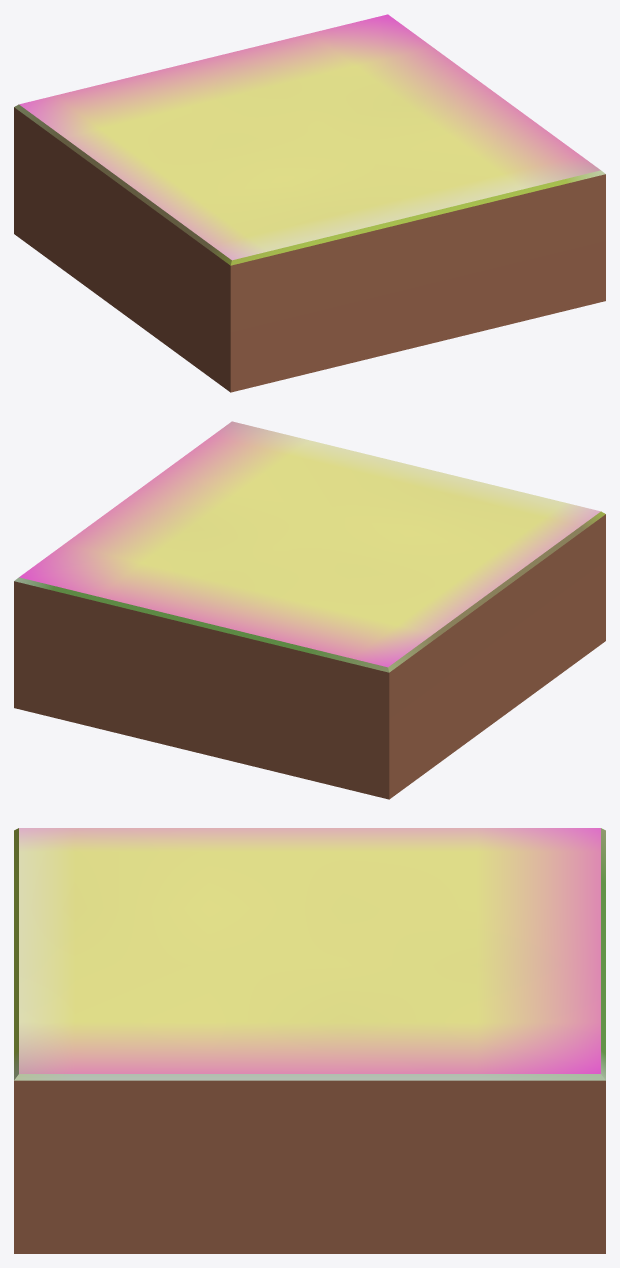
The model's file is Plain.Textured.Grid.Desert.glb.
3 renders of one model, top to bottom at view 1: azimuth 30°, elevation 25°; view 2: azimuth 150°, elevation 25°; view 3: azimuth 270°, elevation 25°, orthographic. The views are drawn at different scales.
Parts seen in each view (by area): view 1: Plain.Textured.Grid.Desert; view 2: Plain.Textured.Grid.Desert; view 3: Plain.Textured.Grid.Desert.
Boxes of the visible parts, x1,y1,x2,y2 form: Plain.Textured.Grid.Desert: (14, 14, 605, 392); Plain.Textured.Grid.Desert: (14, 421, 605, 799); Plain.Textured.Grid.Desert: (14, 828, 605, 1253).
Size of the model in its own units: 3 by 0.9943 by 3.
Materials: 1 (1 with a texture image).
